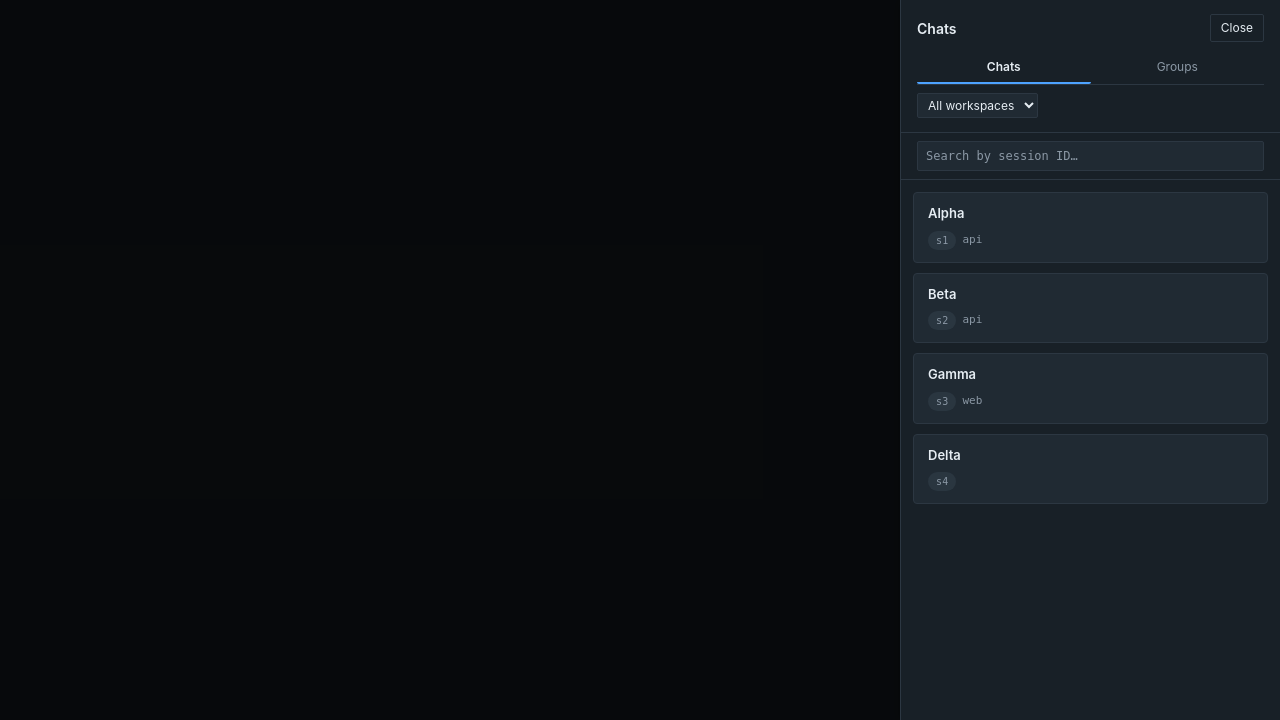
Test case: <ChatsDrawer> › workspace filter dropdown › filters the visible sessions when a workspace is selected
Select "api" in the dropdown named "workspace" at (978, 106), box x1=917 y1=93 x2=1038 y2=118
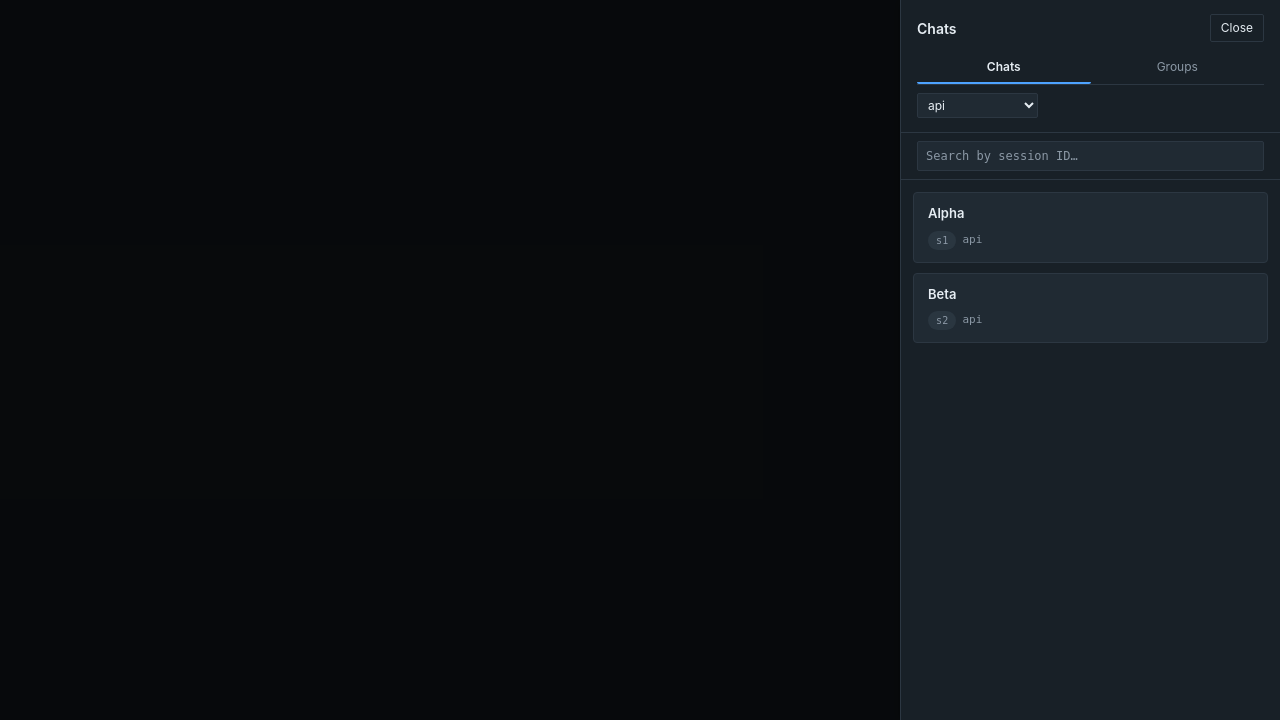
Expected: the text "Alpha" is shown, x1=928 y1=205 x2=964 y2=222
Result: the text "Gamma" is gone
Result: the text "Delta" is gone
